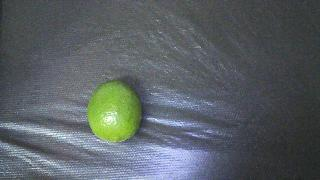LOCAL: (87, 80, 142, 142)
